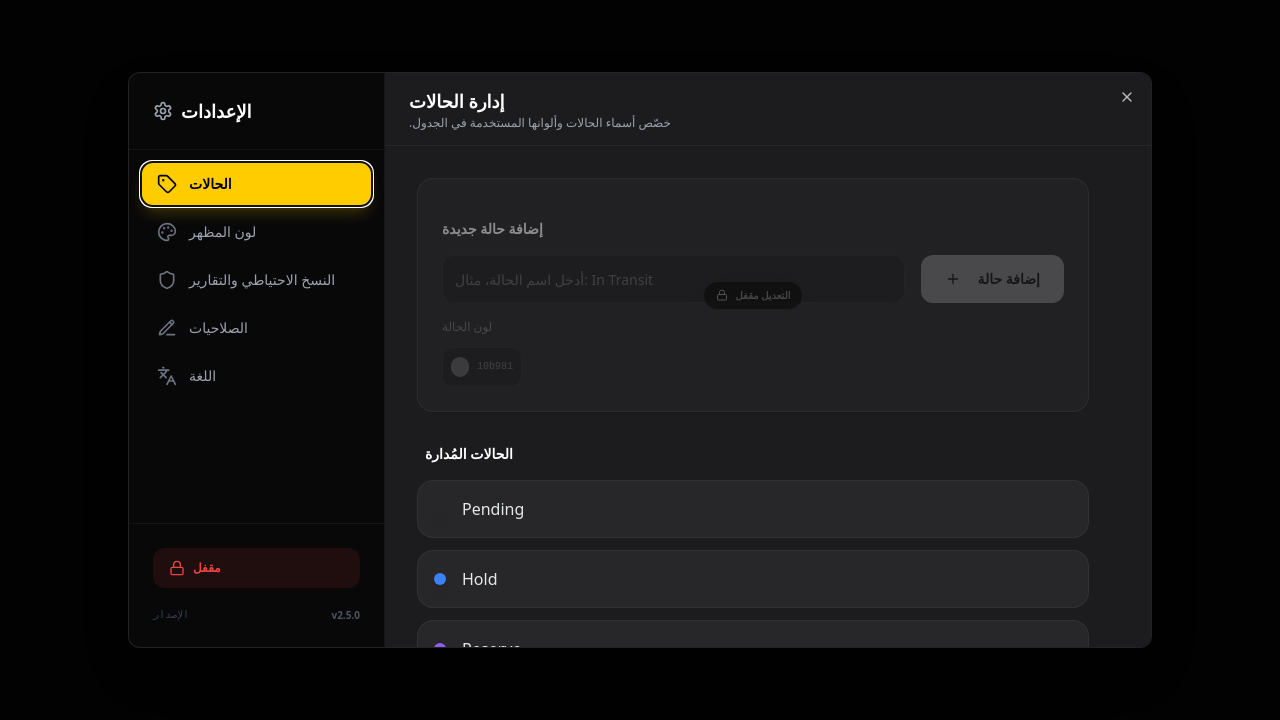
Test case: SettingsModal i18n (Wave 4) › translates the Theme Color tab
Click the button "لون المظهر" at coordinates (256, 232), box top-left (141, 210), bottom-right (372, 254)
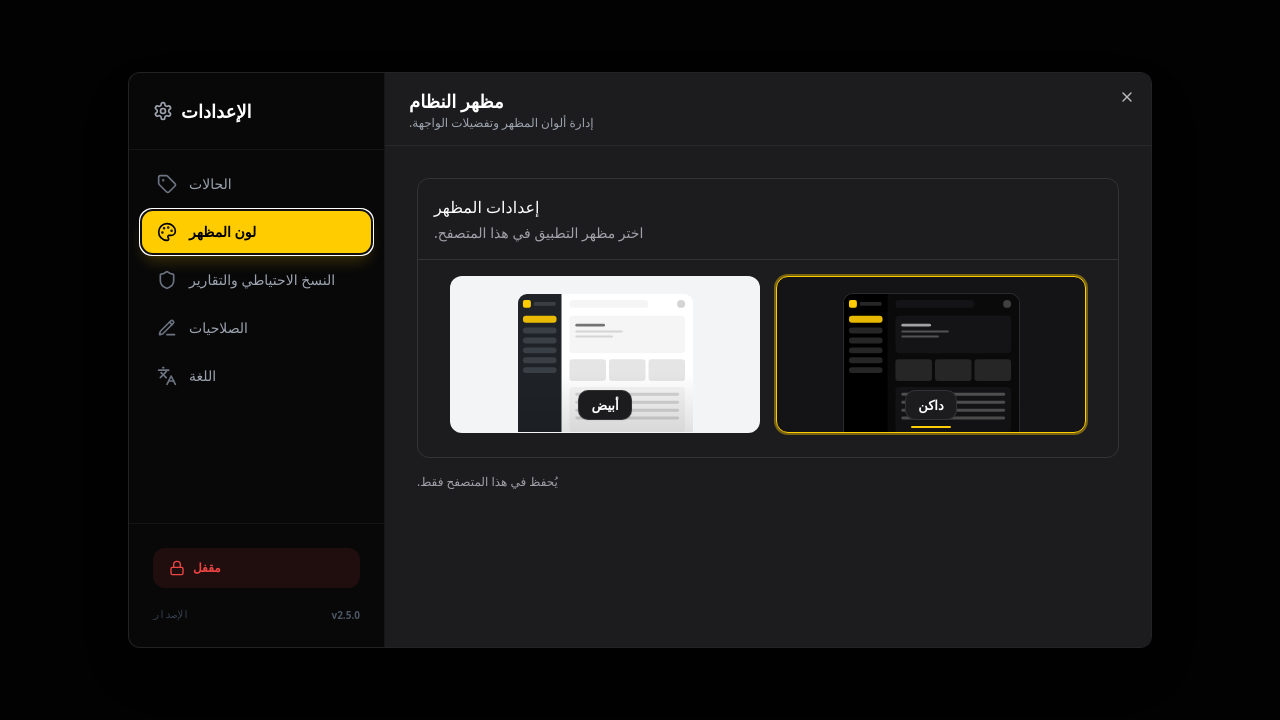
Expected: the text "مظهر النظام" is shown, top-left (409, 89), bottom-right (504, 113)
Expected: the text "إعدادات المظهر" is shown, top-left (434, 196), bottom-right (540, 218)
Expected: the text "داكن" is shown, top-left (918, 399), bottom-right (944, 412)
